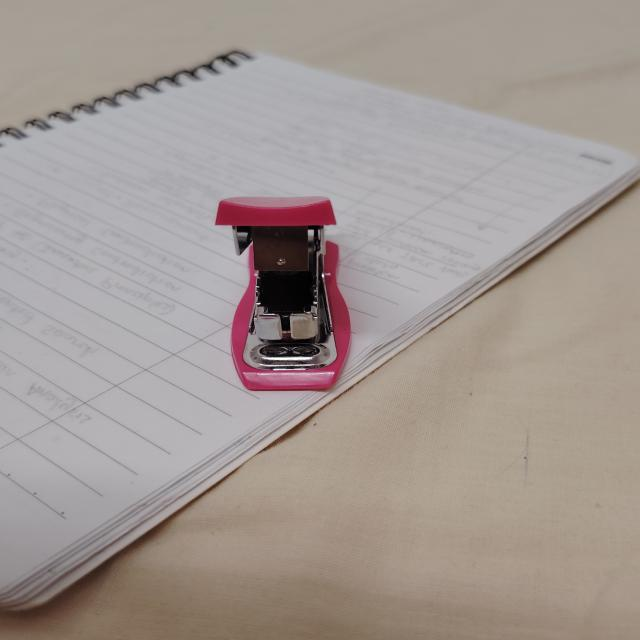stapler: (216, 197, 349, 390)
